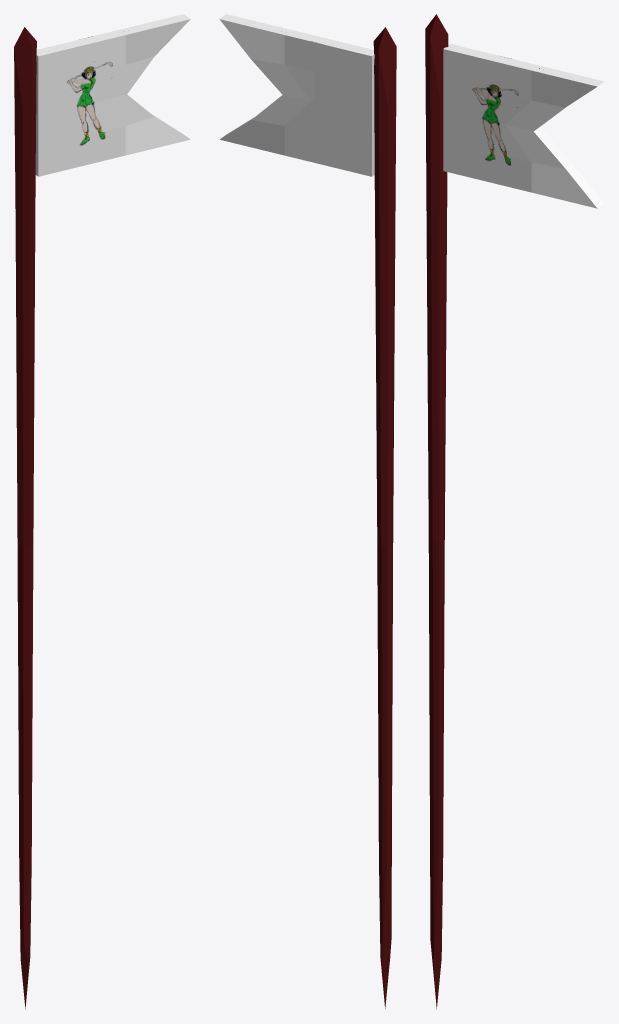
The model's file is flag_0_3.fbx.
3 renders of one model, left to right at view 1: azimuth 30°, elevation 25°; view 2: azimuth 150°, elevation 25°; view 3: azimuth 330°, elevation 25°, orthographic.
Visible parts, largest first — view 1: Cube.006; view 2: Cube.006; view 3: Cube.006.
Boxes of the visible parts, box(x1,y1,x2,y2) form: Cube.006: box(14, 14, 190, 1009); Cube.006: box(219, 14, 396, 1008); Cube.006: box(425, 14, 604, 1009).
Bounding box in the file's own units: 66.5 × 8.75 × 360.
2 materials, 1 textured.
